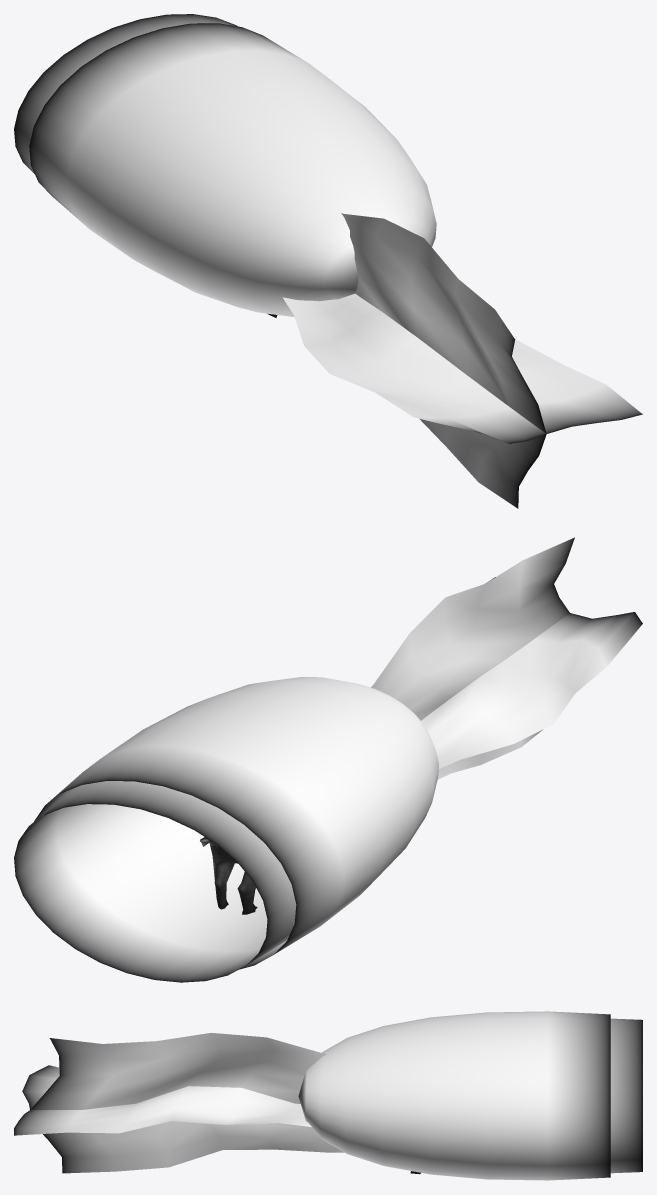
The model's file is effect_role@chongwutongyong_skill01putongchongfeng_01.fbx.
The picture shows the model from 3 angles, top to bottom: view 1: azimuth 30°, elevation 25°; view 2: azimuth 150°, elevation 25°; view 3: azimuth 270°, elevation 25°; orthographic projection. The views are drawn at different scales.
Visible parts, largest first — view 1: banqiu_03, liudong, banqiu_04; view 2: banqiu_03, banqiu_04, liudong, a_zhu; view 3: banqiu_03, liudong, banqiu_04.
Part boxes in pixels (x1=…): banqiu_03: x1=29, y1=23, x2=436, y2=316; liudong: x1=282, y1=213, x2=642, y2=508; banqiu_04: x1=14, y1=14, x2=237, y2=173; banqiu_03: x1=34, y1=677, x2=438, y2=969; banqiu_04: x1=14, y1=781, x2=296, y2=982; liudong: x1=371, y1=537, x2=642, y2=779; a_zhu: x1=200, y1=837, x2=257, y2=914; banqiu_03: x1=298, y1=1011, x2=610, y2=1180; liudong: x1=14, y1=1032, x2=344, y2=1173; banqiu_04: x1=610, y1=1018, x2=642, y2=1173.
Size of the model in its own units: 2.01 by 1.45 by 5.43.
